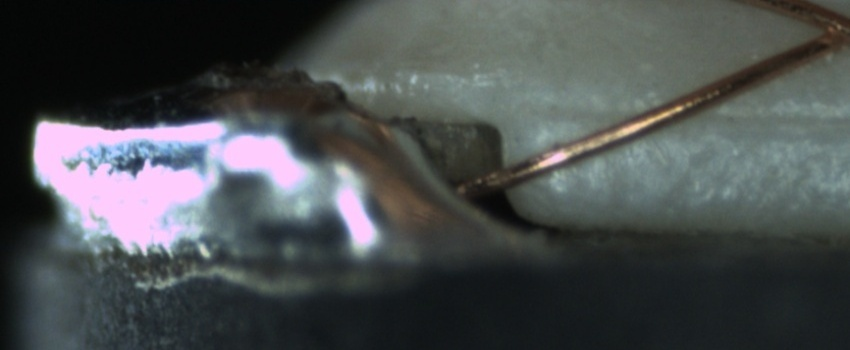CL: (792, 4, 850, 59)
DL: (535, 84, 850, 150)
